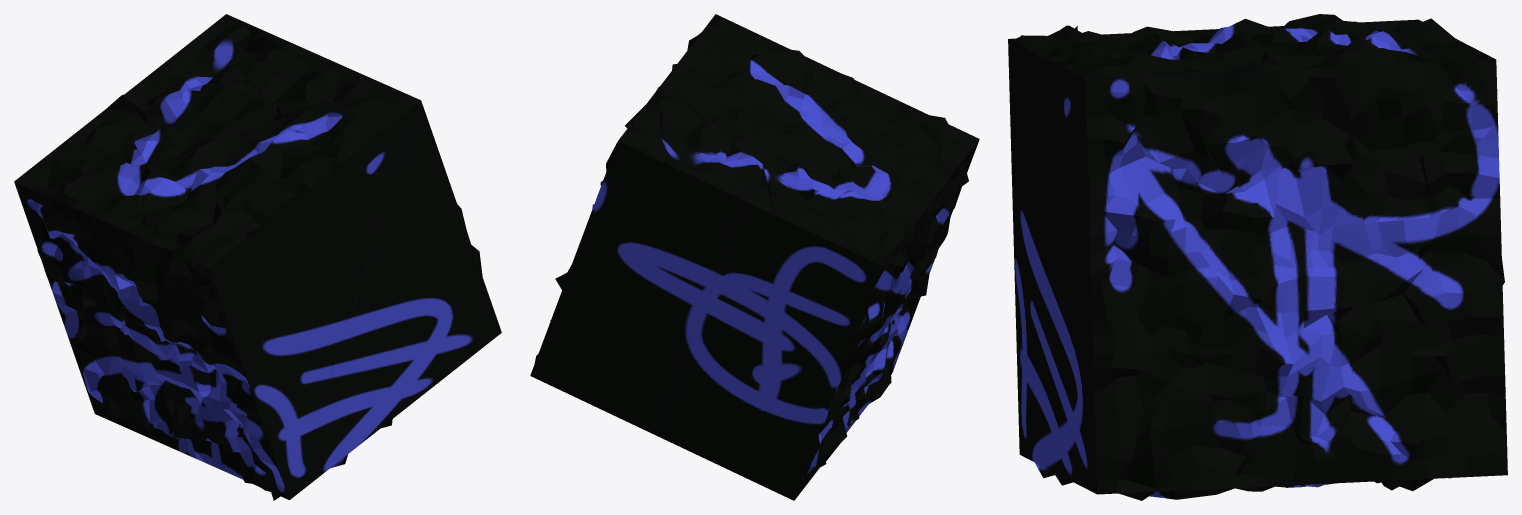
File: Wall_Block_v1c.fbx
3 renders of one model, left to right at view 1: azimuth 30°, elevation 25°; view 2: azimuth 150°, elevation 25°; view 3: azimuth 270°, elevation 25°, orthographic. The views are drawn at different scales.
Parts seen in each view (by area): view 1: node_id4; view 2: node_id4; view 3: node_id4.
Part boxes in pixels (x1,y1,x2,y2): node_id4: [14, 14, 501, 500]; node_id4: [530, 14, 979, 500]; node_id4: [1008, 14, 1507, 500].
Size of the model in its own units: 0.1716 by 0.1581 by 0.1427.
1 material, 1 textured.
